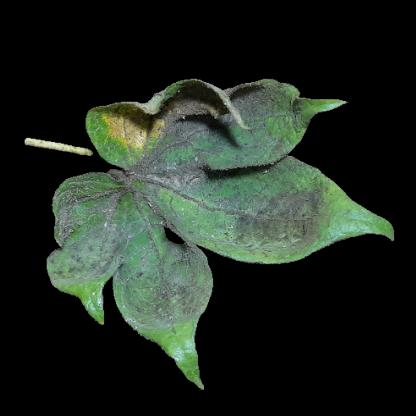sooty: (89, 158, 193, 331), (222, 177, 316, 250)
